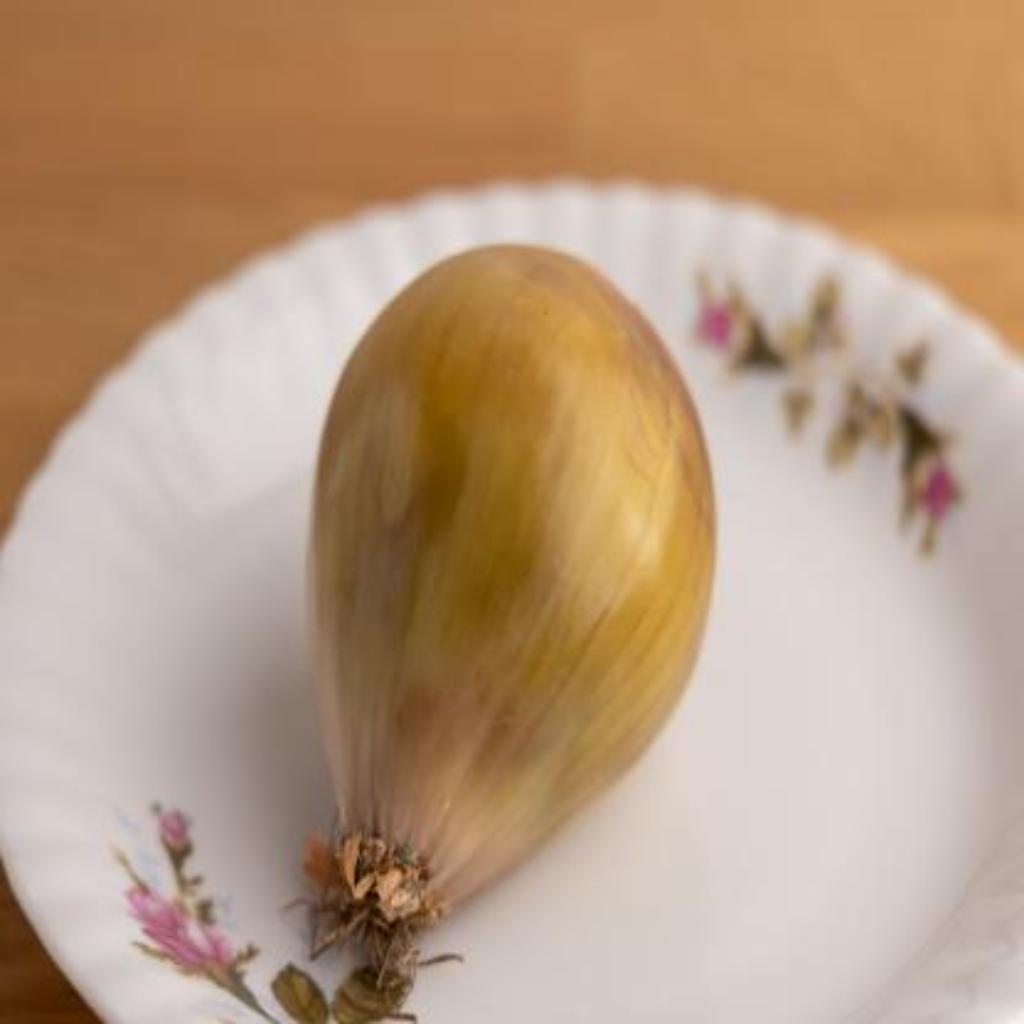Onion: (308, 246, 716, 1023)
